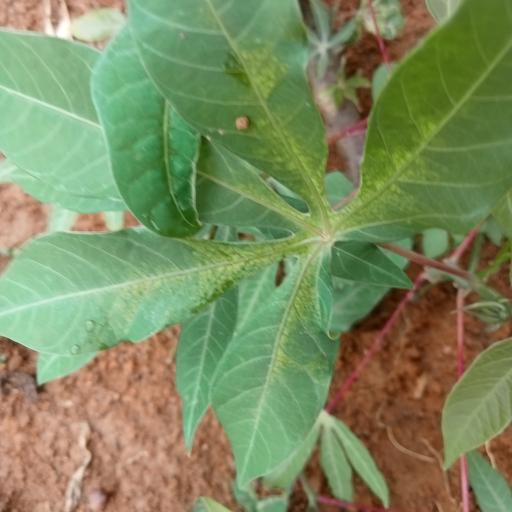Cassava_Mosaic: (30, 0, 512, 455)
